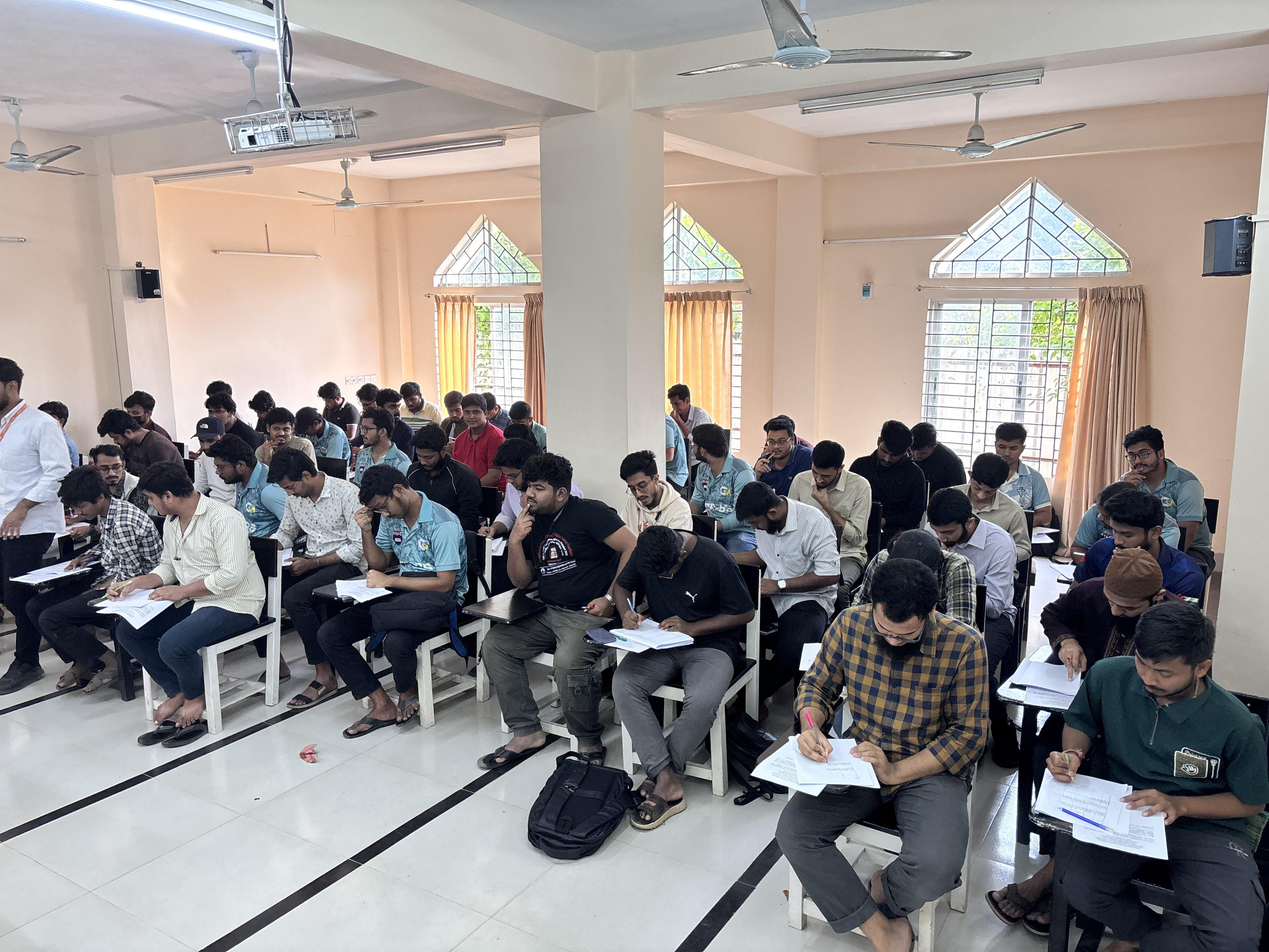copying: (123, 473, 255, 679), (92, 440, 140, 494)
hidden_communication: (22, 479, 150, 639)
invigilator: (0, 352, 58, 648)
no_cheating: (783, 562, 965, 893), (1053, 620, 1269, 876), (601, 535, 718, 732), (326, 488, 453, 662), (499, 462, 601, 667), (1051, 557, 1147, 698), (725, 484, 815, 611), (254, 465, 343, 576), (474, 438, 541, 546), (785, 448, 857, 545), (206, 443, 283, 518), (617, 457, 678, 537), (94, 406, 171, 467), (345, 414, 411, 484), (858, 423, 909, 511), (405, 441, 474, 506), (919, 493, 985, 556), (958, 457, 1031, 513), (1088, 496, 1154, 555), (454, 397, 502, 463), (907, 424, 952, 494), (990, 413, 1043, 472), (296, 402, 339, 458), (308, 378, 350, 433), (671, 380, 715, 431), (765, 421, 805, 470), (400, 380, 435, 422), (204, 395, 243, 432), (121, 388, 158, 424), (351, 386, 381, 413), (443, 391, 467, 423), (249, 394, 277, 420)
side_talking: (253, 415, 319, 468)
suspicious_moving: (680, 423, 747, 514)
